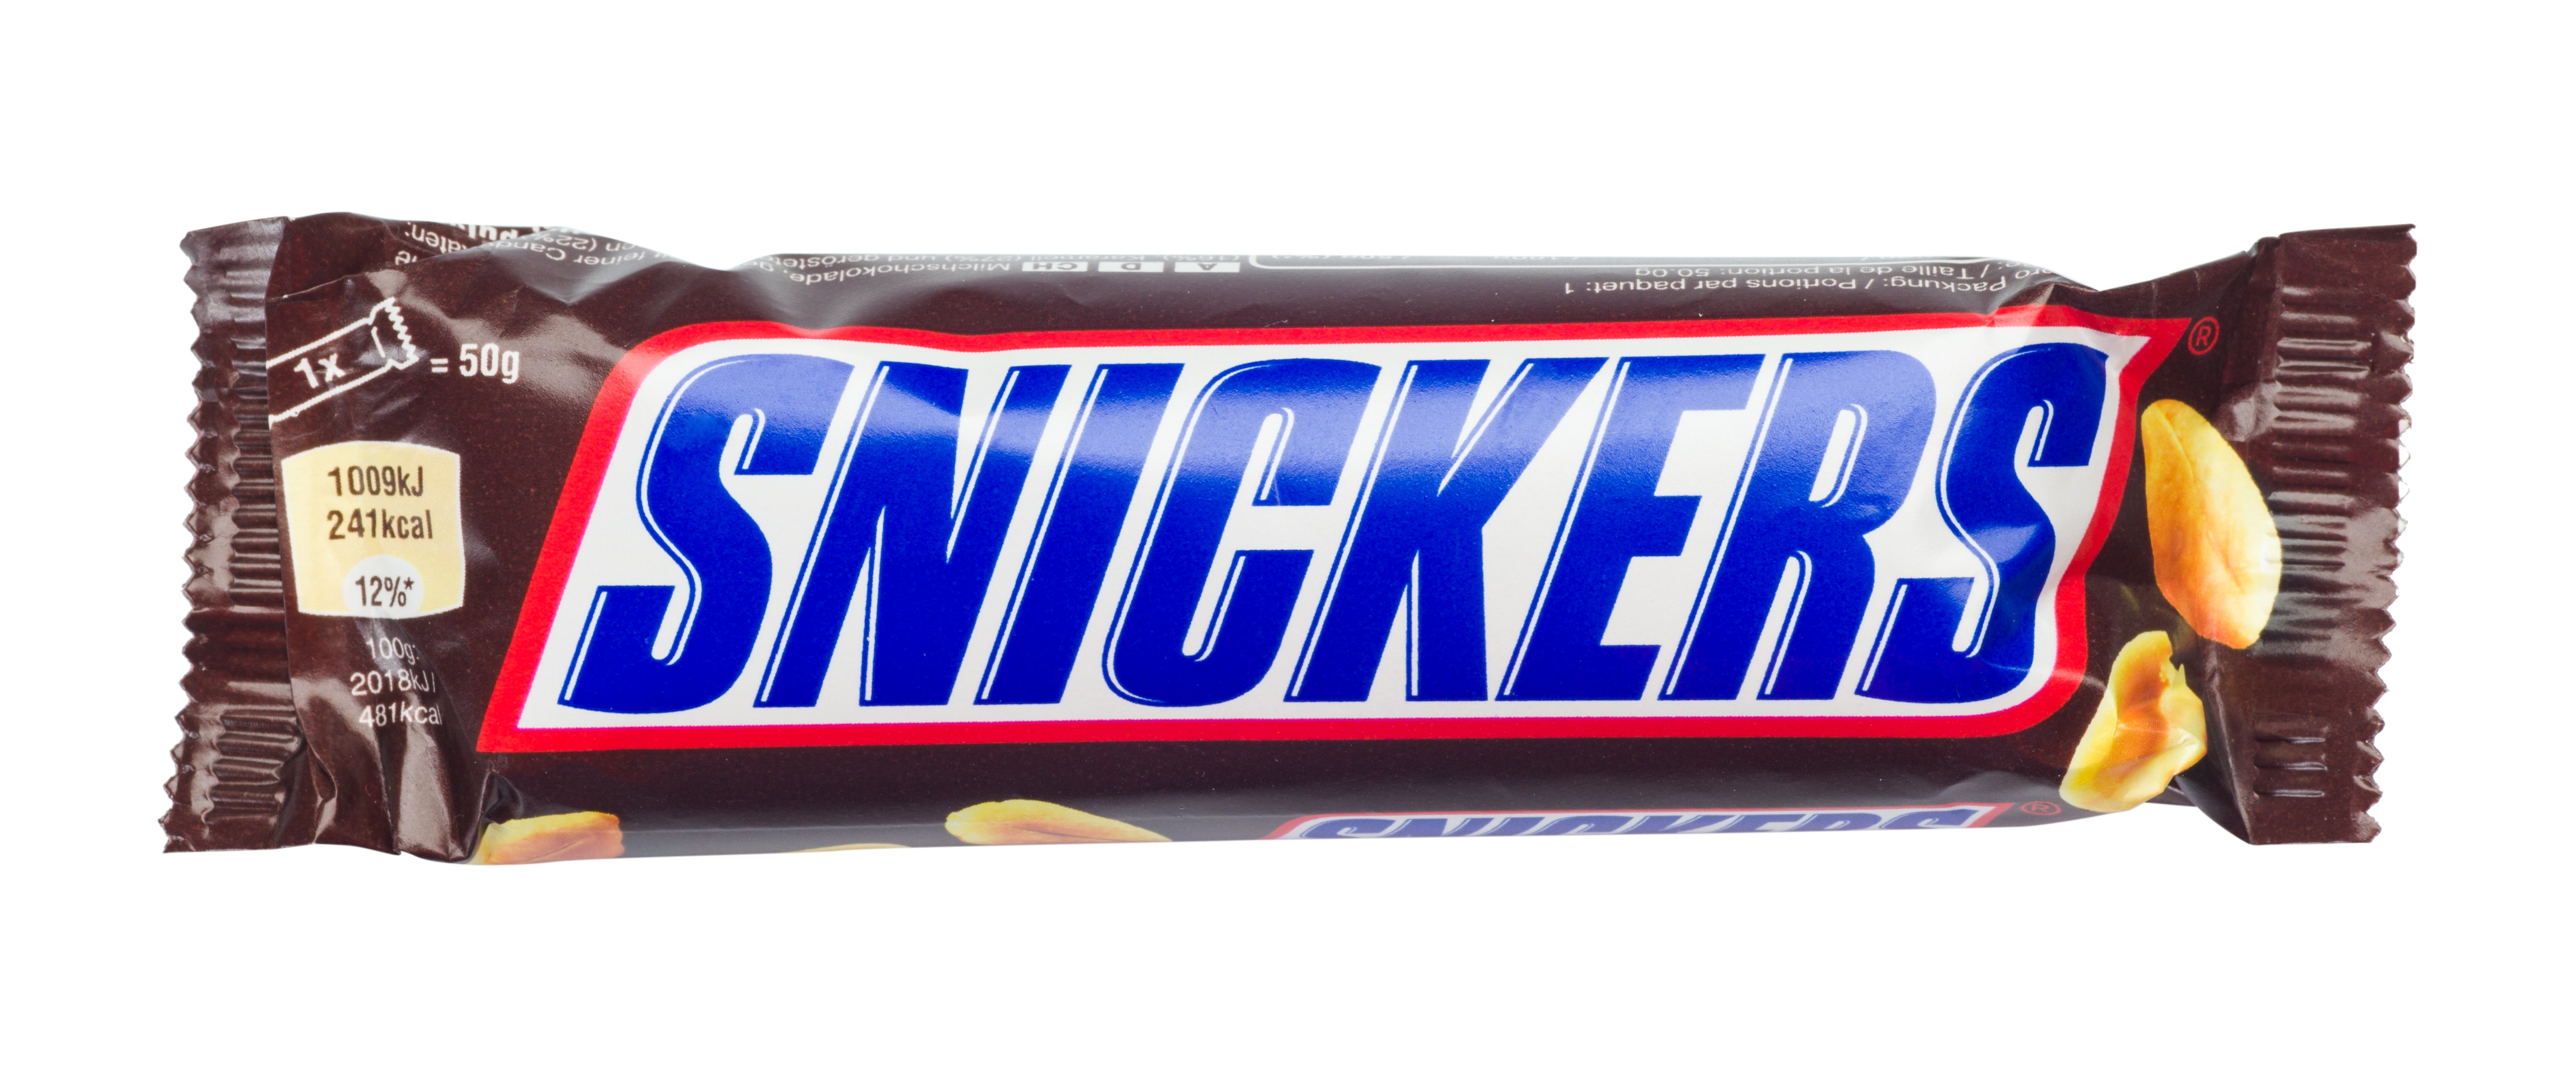snickers: (552, 340, 2109, 713), (552, 343, 2109, 713)
